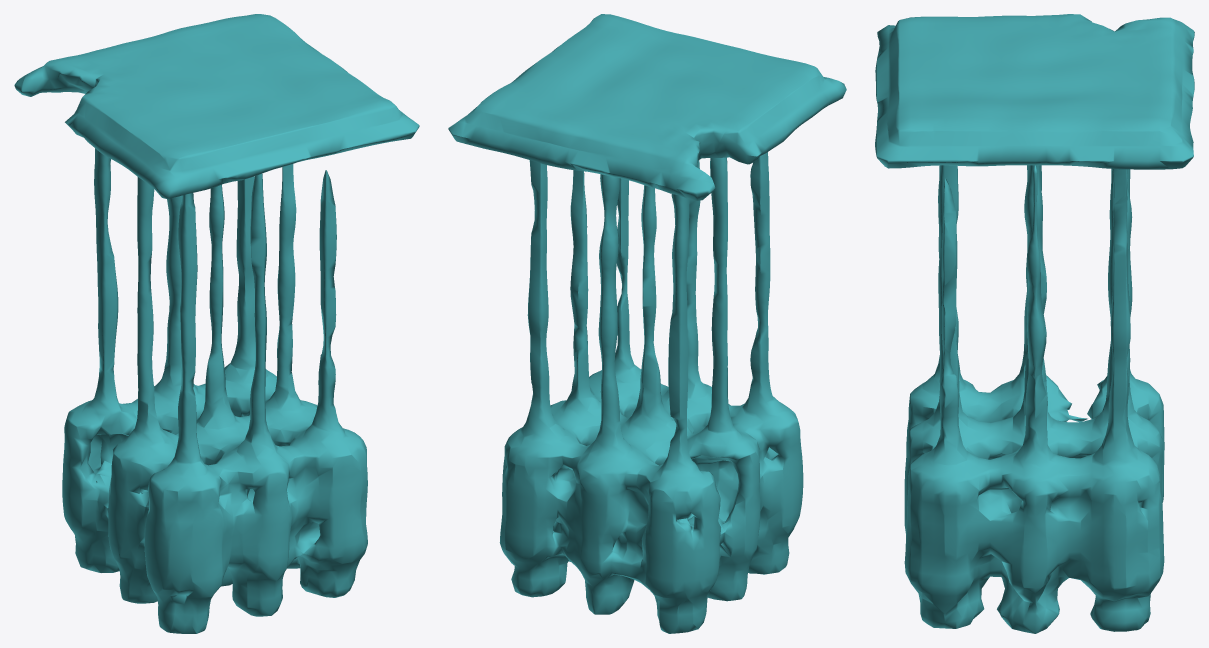
The model's file is lamp_7_6.obj.
3 renders of one model, left to right at view 1: azimuth 30°, elevation 25°; view 2: azimuth 150°, elevation 25°; view 3: azimuth 270°, elevation 25°, orthographic. The views are drawn at different scales.
Bounding box in the file's own units: 0.441 × 0.7963 × 0.4421.
